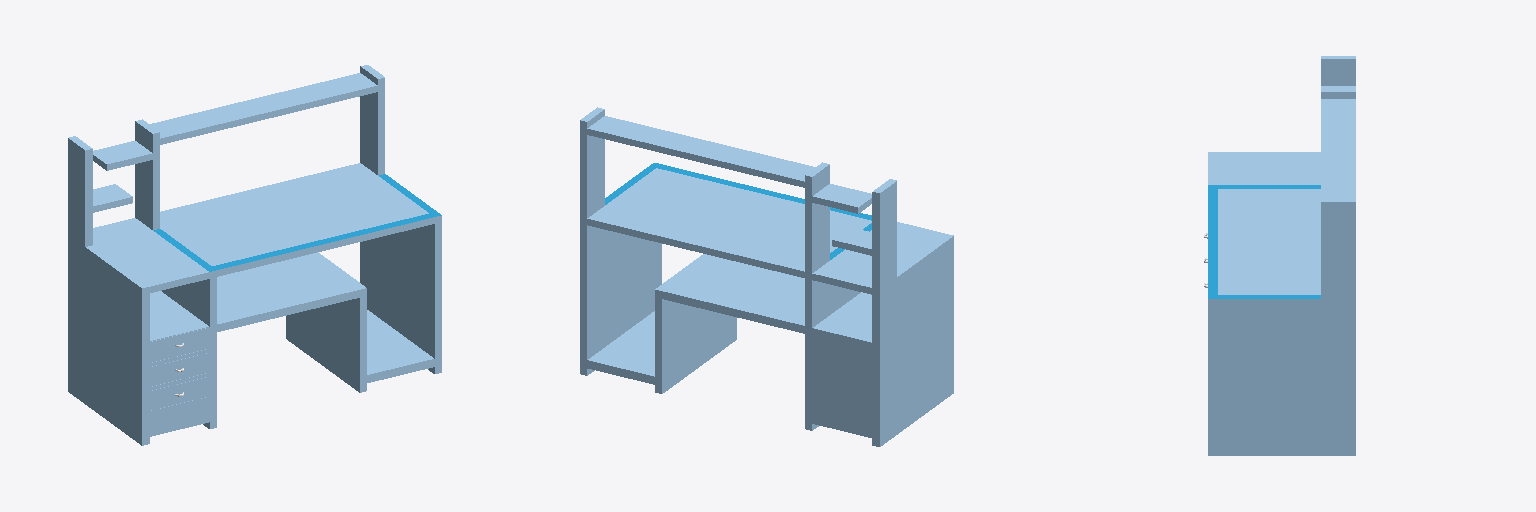
Rendered from 电脑桌子.obj.
The picture shows the model from 3 angles: view 1: azimuth 30°, elevation 25°; view 2: azimuth 150°, elevation 25°; view 3: azimuth 270°, elevation 25°; orthographic projection.
Parts seen in each view (by area): view 1: 电脑桌; view 2: 电脑桌; view 3: 电脑桌.
Part boxes in pixels (x1,y1,x2,y2): 电脑桌: (68, 65, 441, 445); 电脑桌: (580, 107, 953, 446); 电脑桌: (1208, 56, 1355, 455).
Size of the model in its own units: 1182 by 956 by 520.